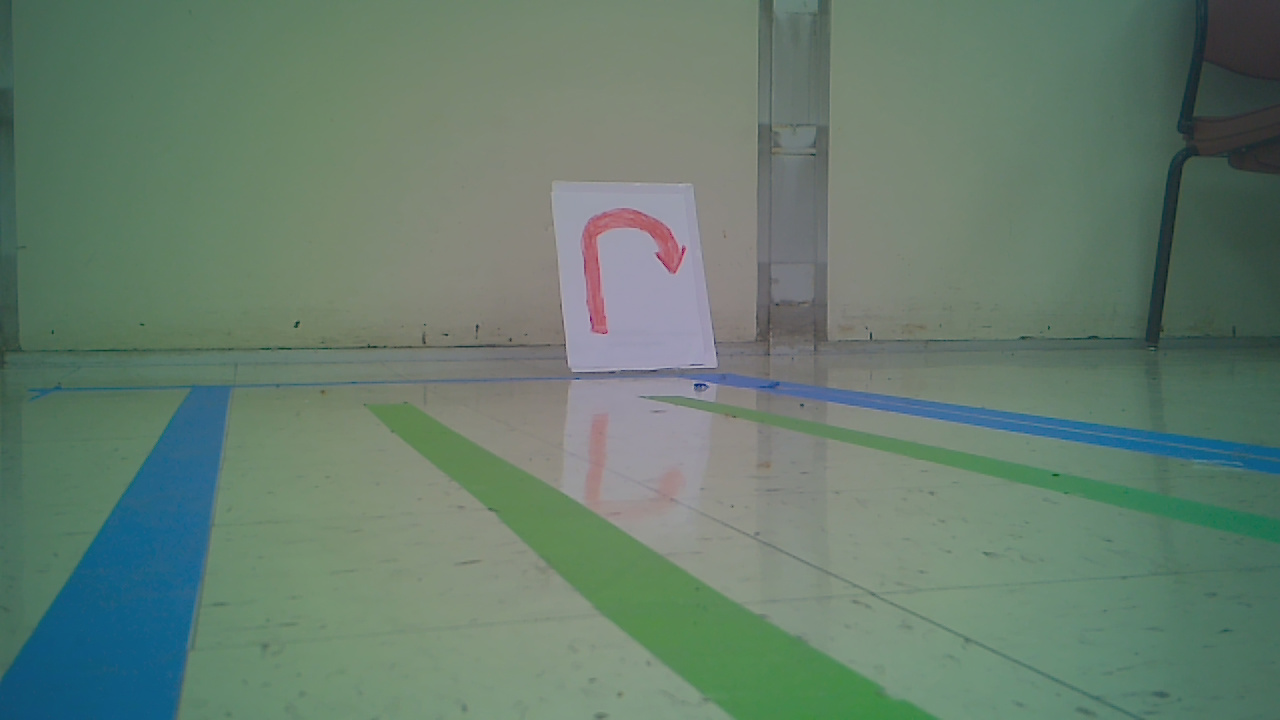greenline: (364, 401, 925, 720), (650, 395, 1263, 539)
uturn: (576, 201, 691, 339)
